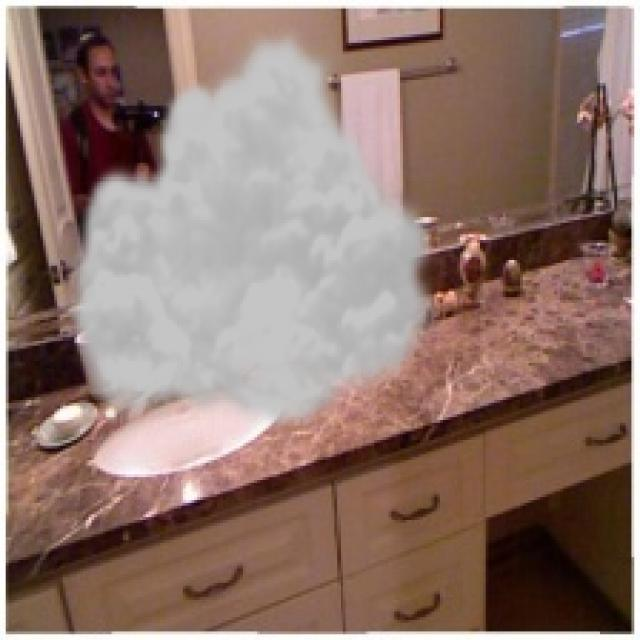Smoke: (63, 22, 446, 432)
